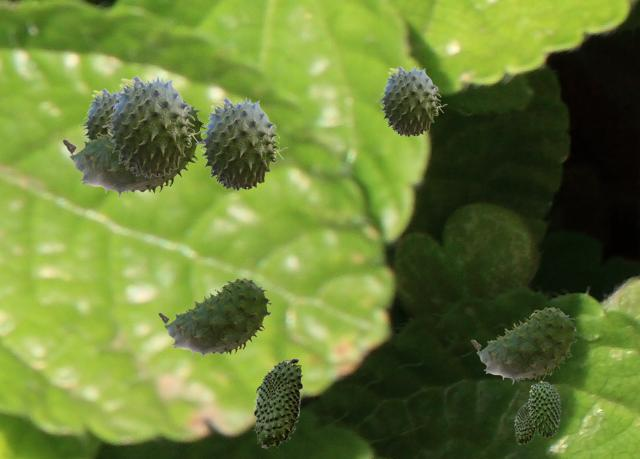guyabano: (62, 100, 204, 198), (102, 74, 203, 177), (158, 278, 270, 358), (195, 96, 287, 190), (471, 307, 576, 383), (376, 65, 446, 136), (253, 358, 302, 447), (79, 87, 122, 139), (528, 380, 560, 437), (514, 401, 536, 443)
